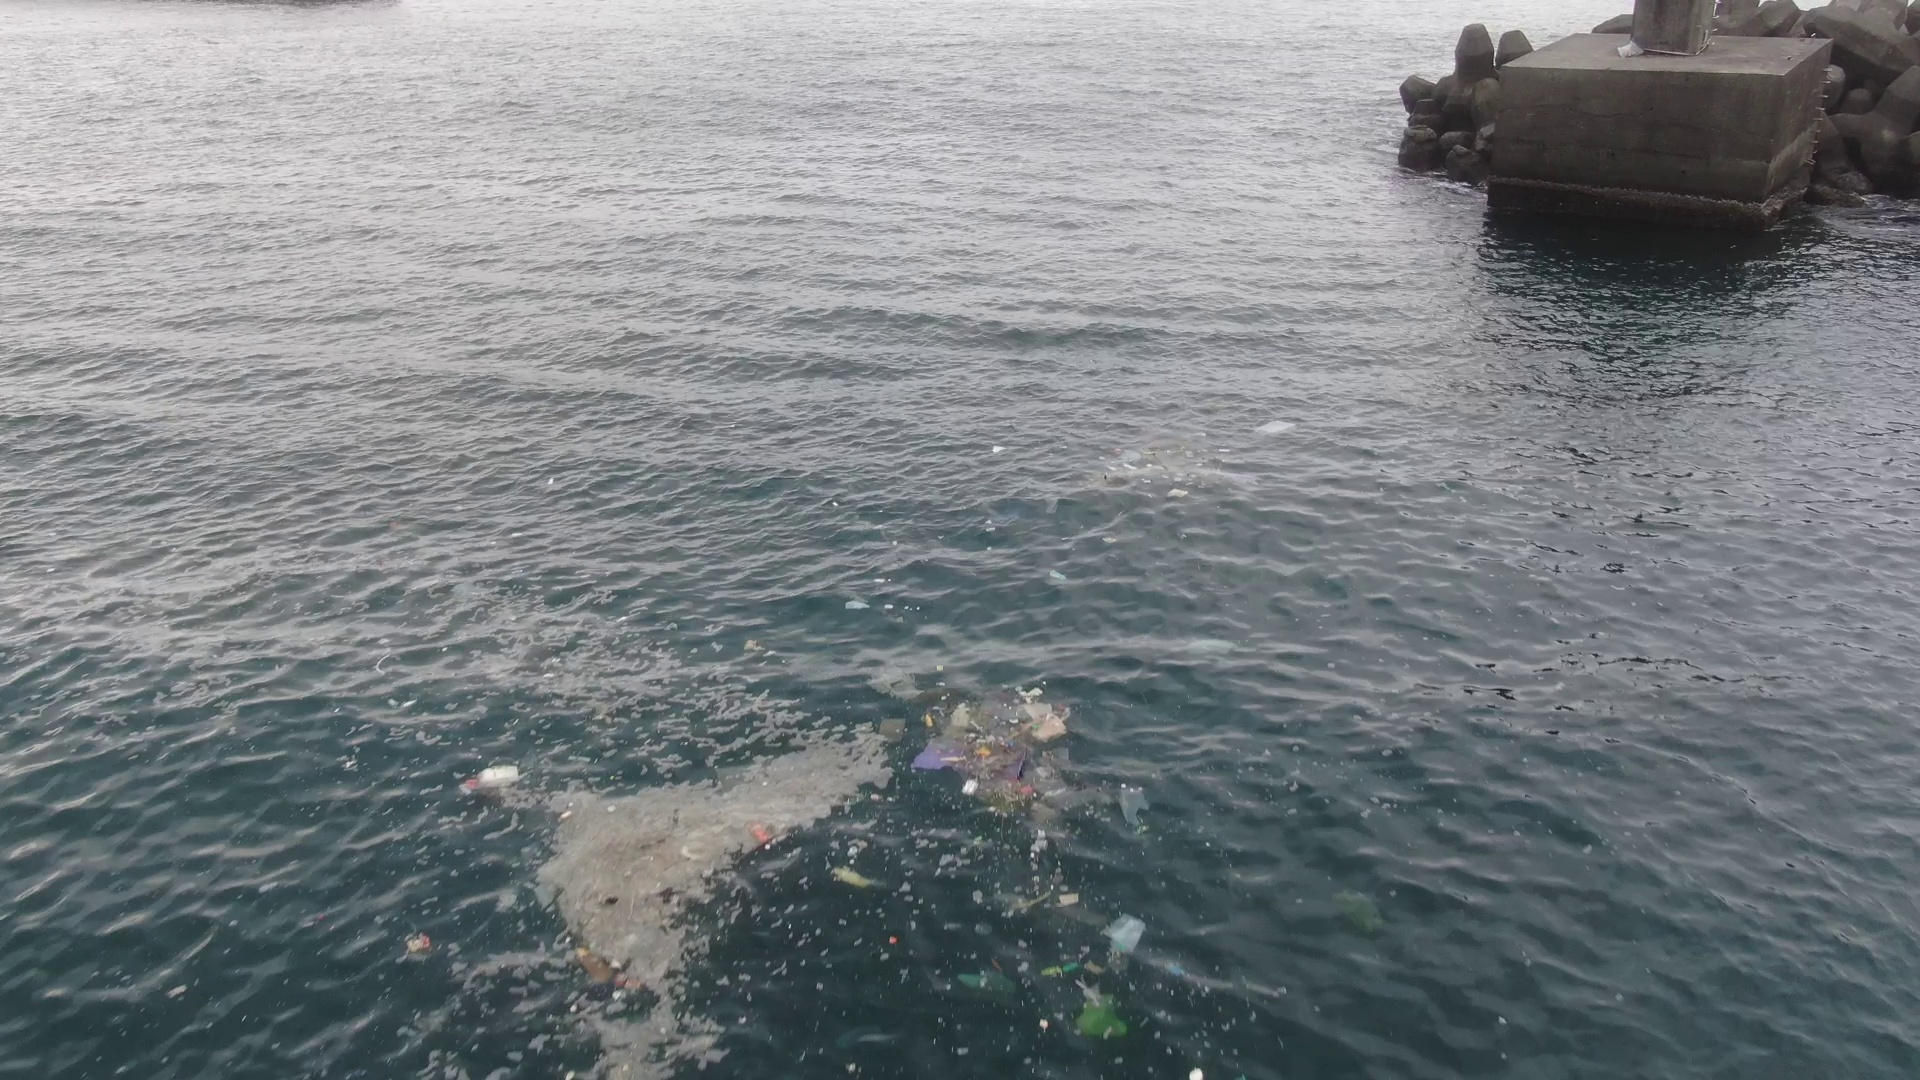garbage: (977, 860, 1145, 1054), (911, 688, 1109, 833), (539, 840, 700, 977), (1112, 439, 1213, 498), (459, 767, 527, 793), (828, 862, 872, 890), (841, 592, 872, 615), (407, 935, 434, 956)
